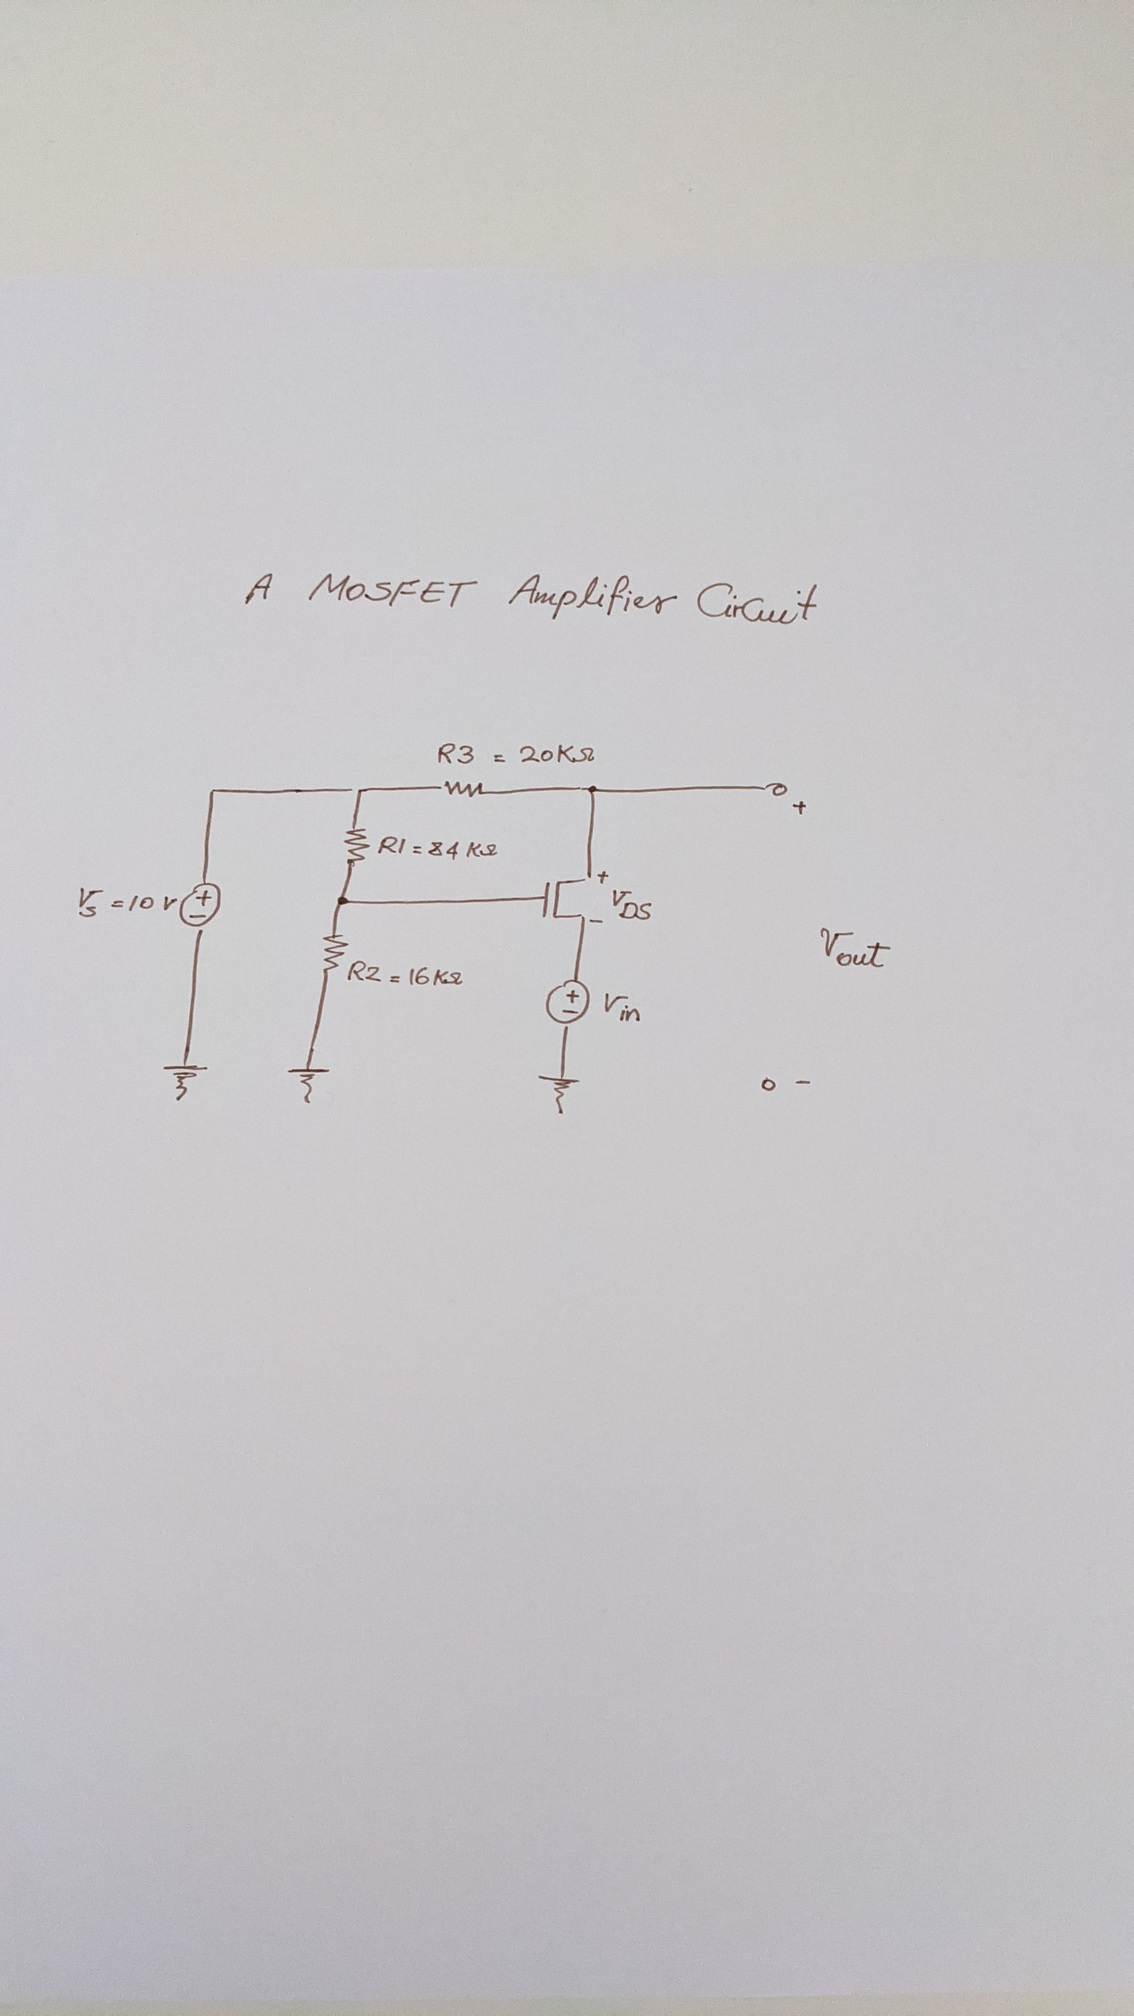gnd: (161, 1061, 212, 1104), (284, 1063, 332, 1108), (536, 1073, 582, 1116)
junction: (346, 784, 371, 798), (583, 782, 602, 798), (204, 785, 222, 800), (334, 893, 353, 907)
resistor: (342, 824, 372, 871), (318, 932, 350, 976), (438, 777, 487, 800)
terminal: (760, 780, 791, 798), (757, 1074, 781, 1092)
text: (244, 569, 821, 627), (436, 741, 598, 767), (73, 883, 179, 922), (817, 924, 894, 972), (346, 958, 467, 989), (377, 834, 503, 863), (611, 885, 655, 922), (602, 989, 642, 1025), (791, 798, 810, 816), (587, 914, 606, 928), (792, 1076, 816, 1087), (595, 868, 611, 885)
transistor: (539, 871, 594, 926)
voltage.dc: (177, 876, 224, 935), (544, 976, 593, 1027)
